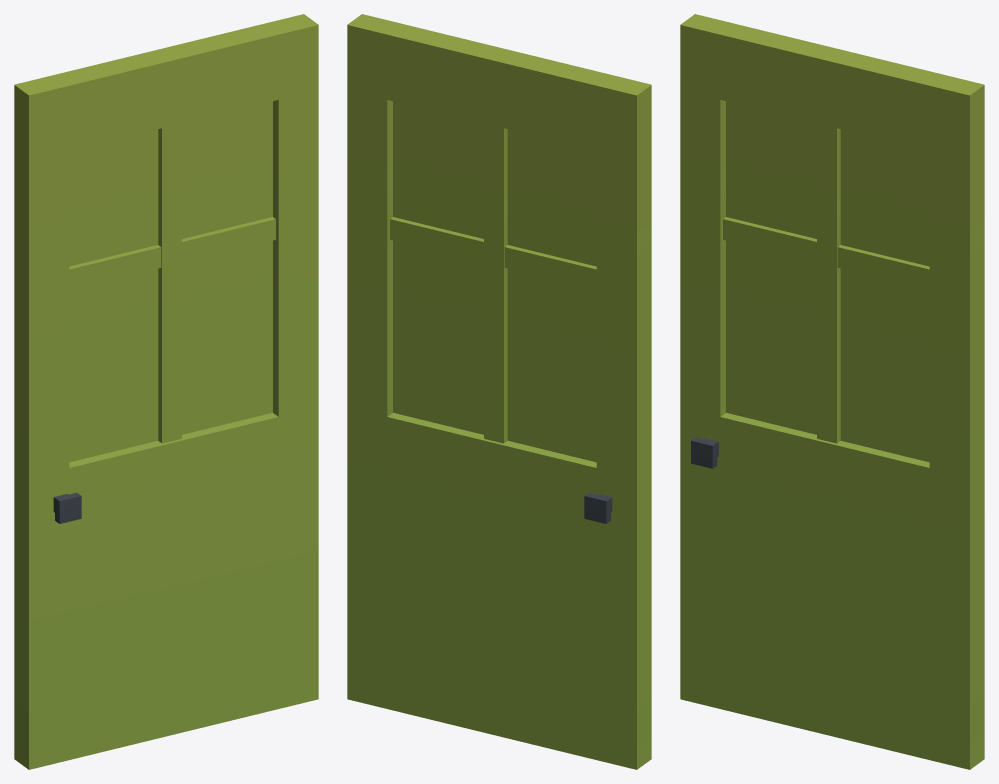
Rendered from Door_02.fbx.
3 renders of one model, left to right at view 1: azimuth 30°, elevation 25°; view 2: azimuth 150°, elevation 25°; view 3: azimuth 330°, elevation 25°, orthographic.
Parts seen in each view (by area): view 1: Door_02; view 2: Door_02; view 3: Door_02.
Part boxes in pixels (x1,y1,x2,y2): Door_02: [14, 14, 318, 769]; Door_02: [347, 14, 651, 769]; Door_02: [680, 14, 984, 769].
Bounding box in the file's own units: 0.9 × 2 × 0.1868.
